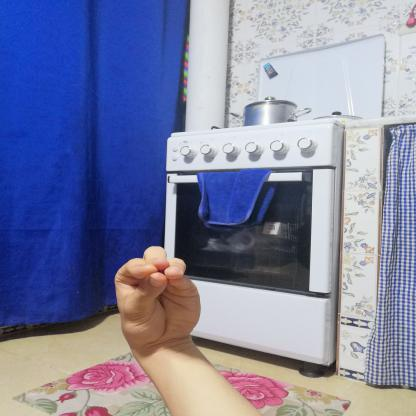HA: (101, 236, 217, 360)
